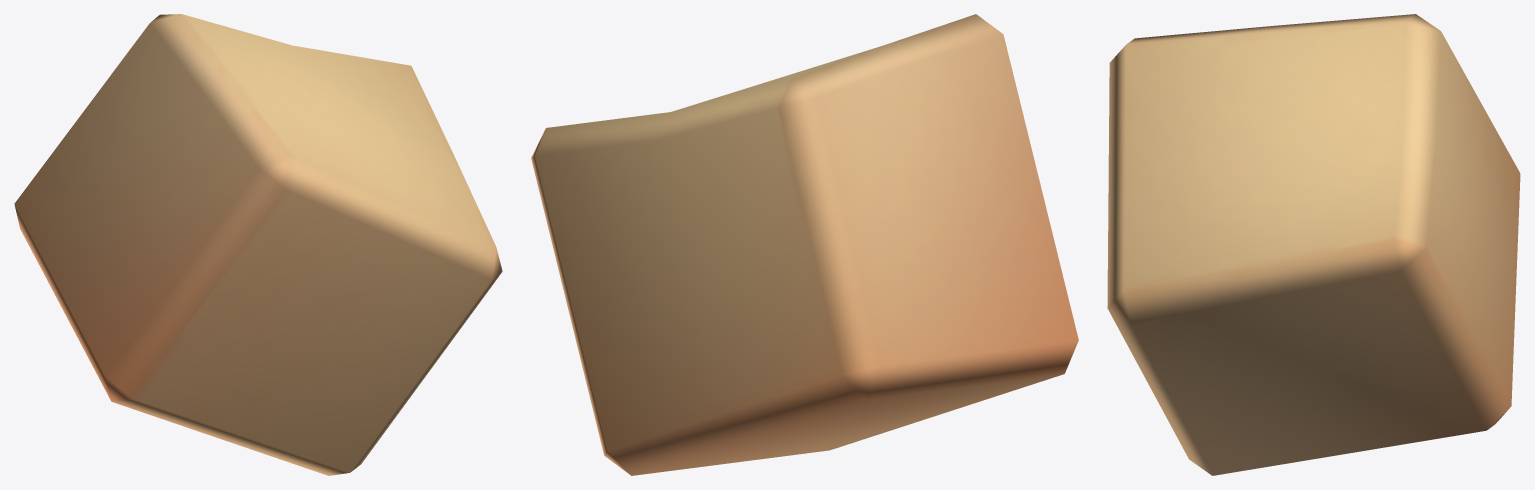
Rendered from JapaneseRestaurant_PotBTofuA.fbx.
3 views of the same model, side by side, from view 1: azimuth 30°, elevation 25°; view 2: azimuth 150°, elevation 25°; view 3: azimuth 270°, elevation 25° (orthographic). The views are drawn at different scales.
Visible parts, largest first — view 1: JapaneseRestaurant_PotBTofuA; view 2: JapaneseRestaurant_PotBTofuA; view 3: JapaneseRestaurant_PotBTofuA.
Boxes of the visible parts, bbox=[...] form: JapaneseRestaurant_PotBTofuA: bbox=[14, 14, 502, 475]; JapaneseRestaurant_PotBTofuA: bbox=[531, 14, 1078, 475]; JapaneseRestaurant_PotBTofuA: bbox=[1107, 14, 1520, 475].
Size of the model in its own units: 3.62 by 3.54 by 3.16.
